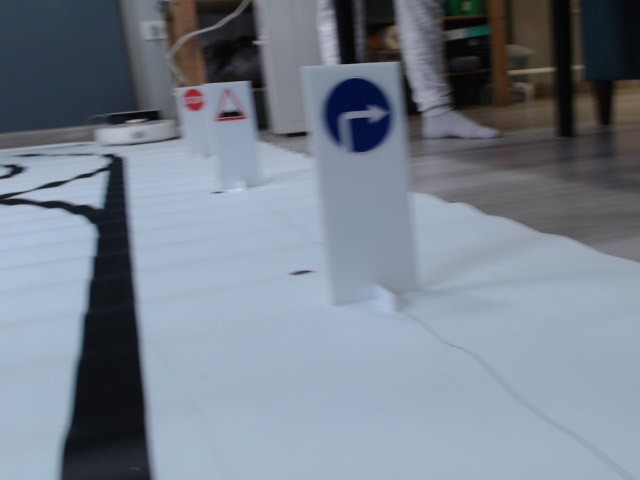Nerov: (212, 89, 246, 123)
Right: (322, 76, 392, 155)
